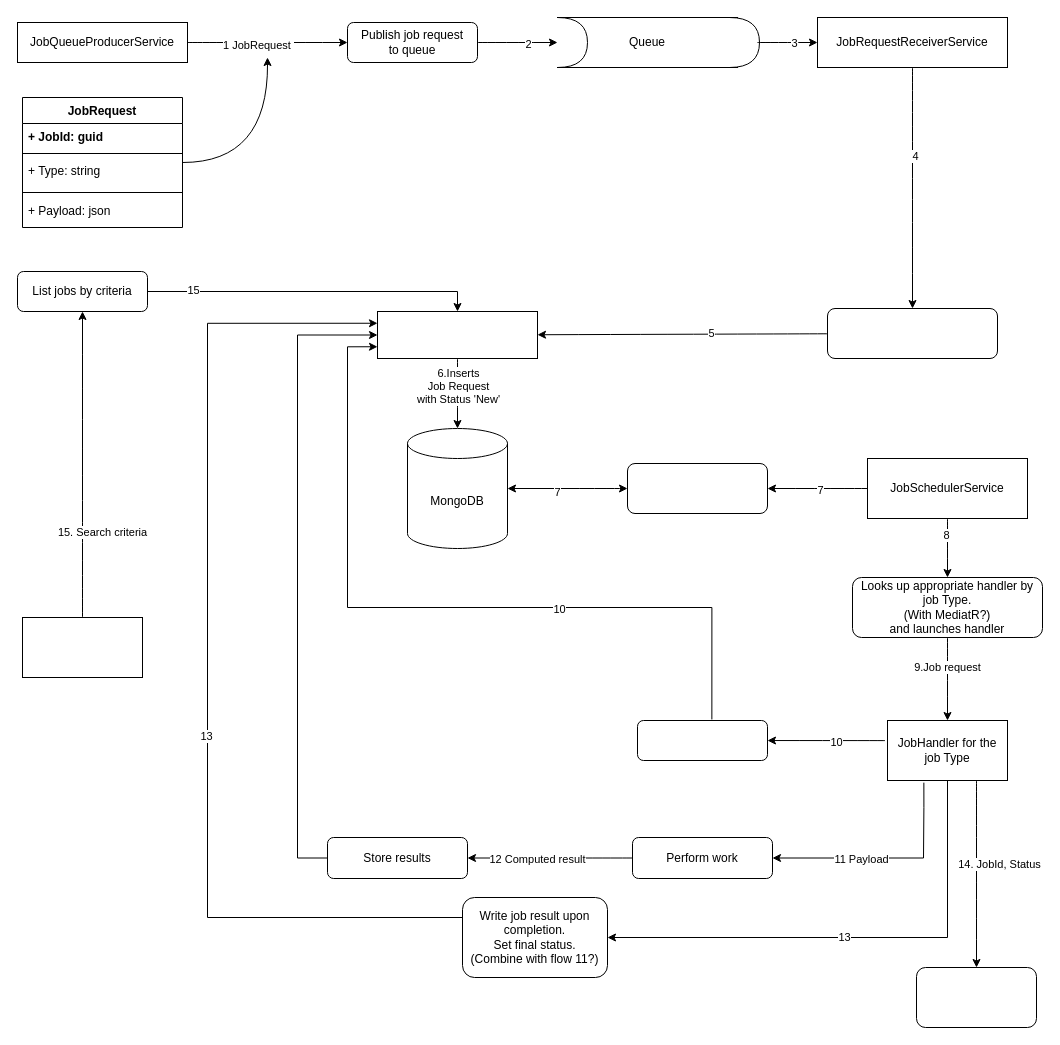
This 1060x1045 diagram has some shape labels left out. The shapes that lost their labels are listed below. From the top down, each one's centre as x and y in pixels, then its label:
At [457,334]: "JobRepositoryService".
At [912,333]: "Send request to store new Job Request".
At [697,488]: "Scan for new jobs".
At [82,647]: "JobsViewerService".
At [702,740]: "Set job status to InProgress".
At [976,997]: "Notify subscribers about finished job".
